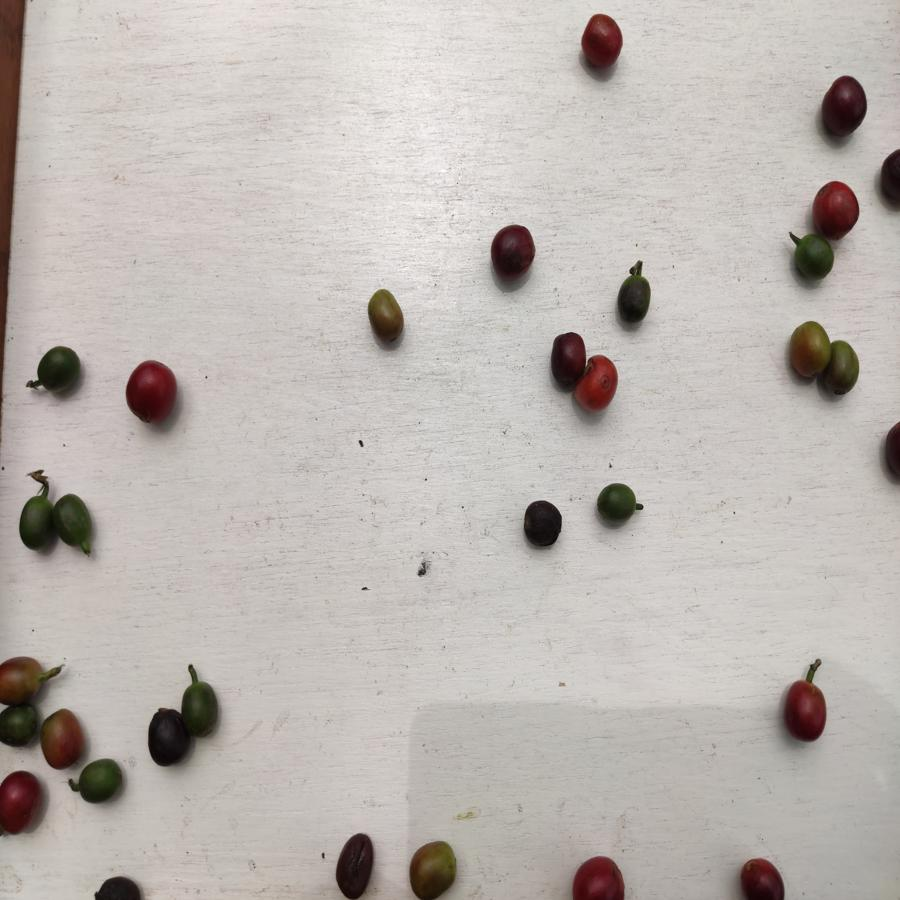Inmaduro: (52, 491, 95, 554), (34, 345, 85, 398), (16, 496, 59, 554), (788, 234, 839, 280), (181, 681, 221, 737), (73, 761, 125, 803), (593, 481, 638, 528), (614, 272, 651, 325), (1, 706, 37, 746)
Maduro: (125, 359, 182, 427), (804, 179, 863, 236), (569, 853, 635, 900), (1, 767, 42, 841), (780, 680, 828, 742), (577, 354, 623, 415), (582, 12, 624, 72)
Pinton: (409, 839, 457, 900), (1, 655, 54, 706), (789, 320, 831, 384), (365, 287, 407, 350), (40, 710, 85, 767), (825, 337, 863, 402)
Sobremaduro: (486, 223, 539, 283), (332, 832, 376, 899), (820, 76, 868, 137), (147, 708, 185, 770), (548, 329, 583, 396), (738, 856, 790, 900), (520, 498, 563, 550), (90, 877, 157, 900), (880, 147, 900, 206)
